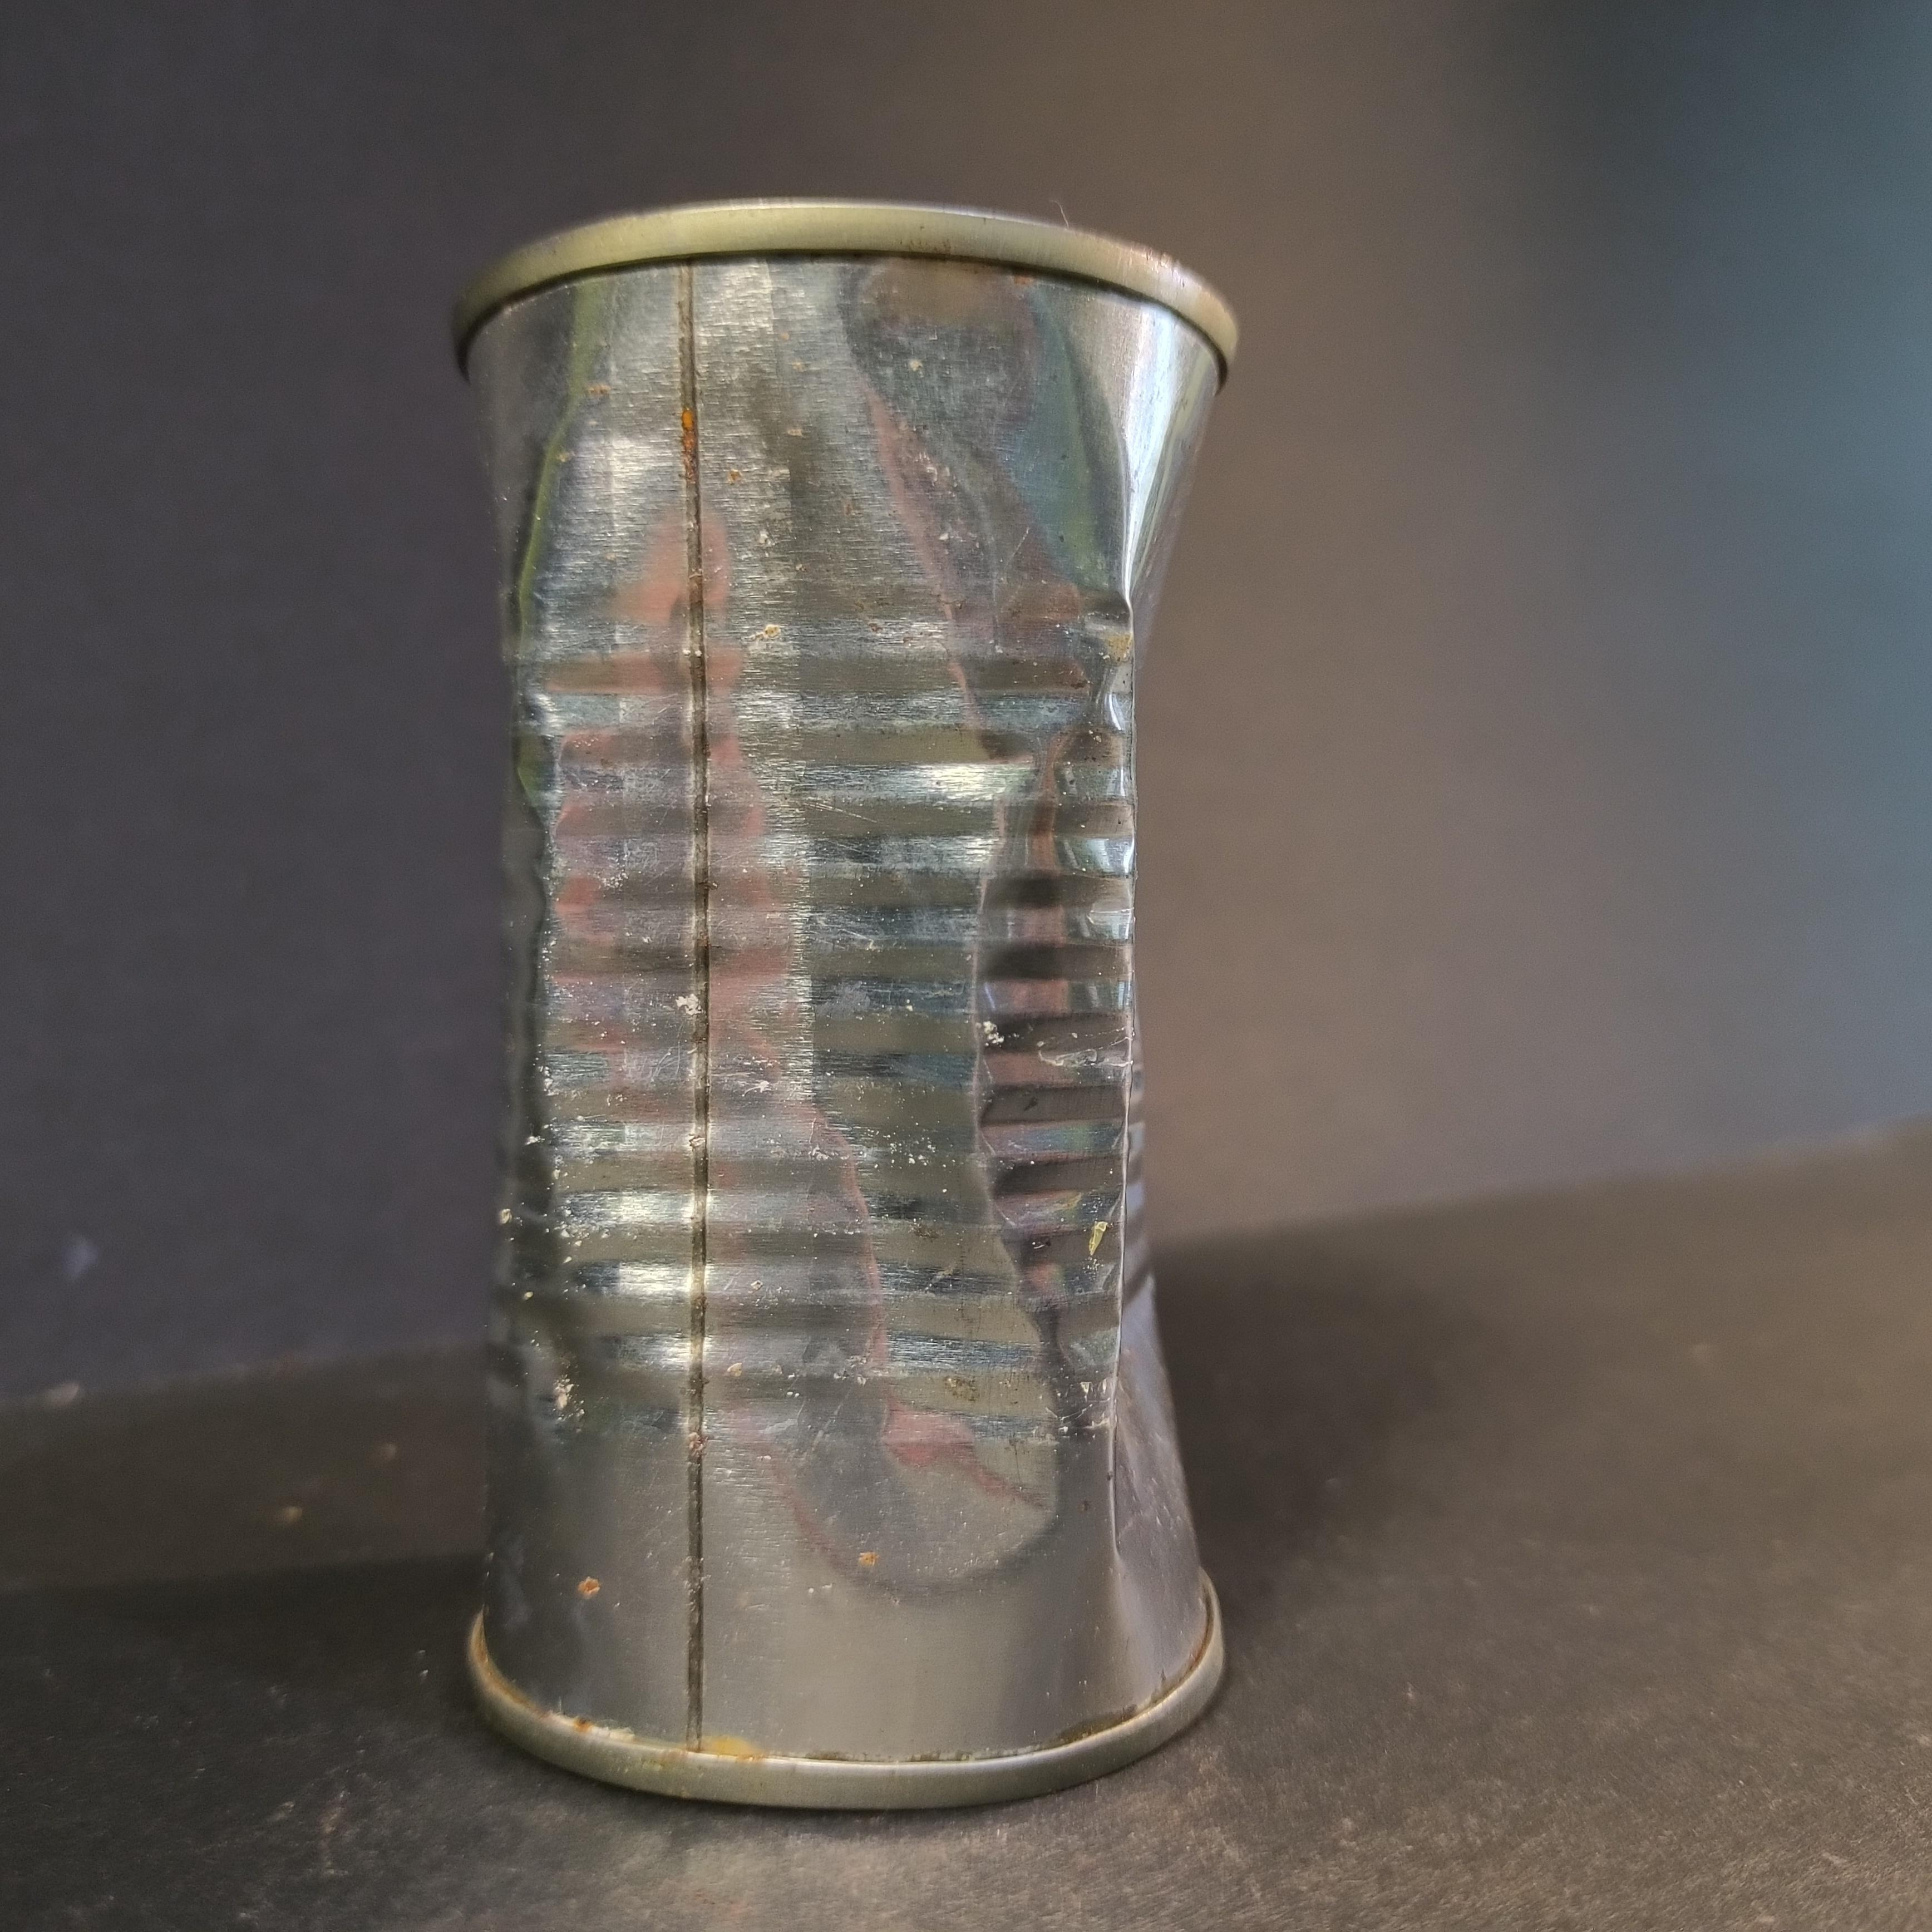Dented: (409, 161, 1279, 1870)
